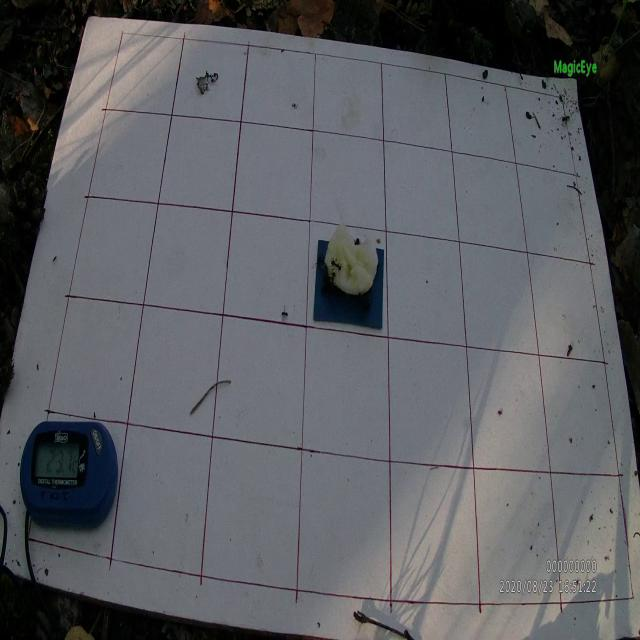Ant: (330, 257, 344, 276)
